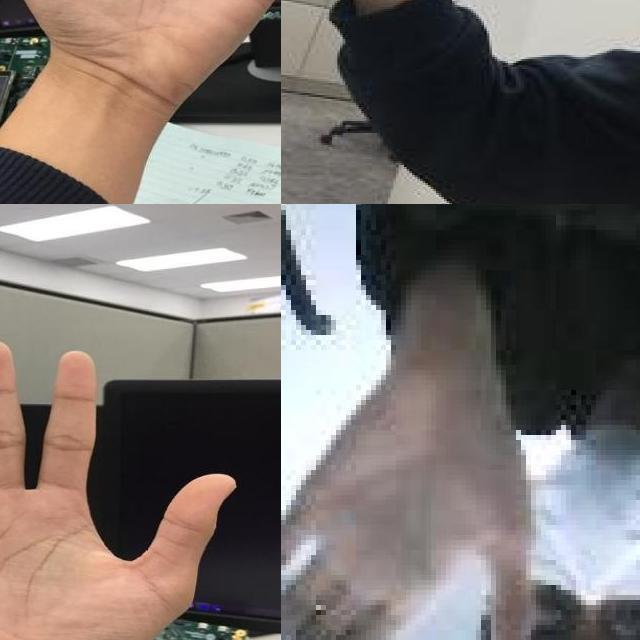hand: (281, 360, 536, 640), (0, 338, 236, 640), (0, 0, 281, 184), (310, 0, 508, 125)
